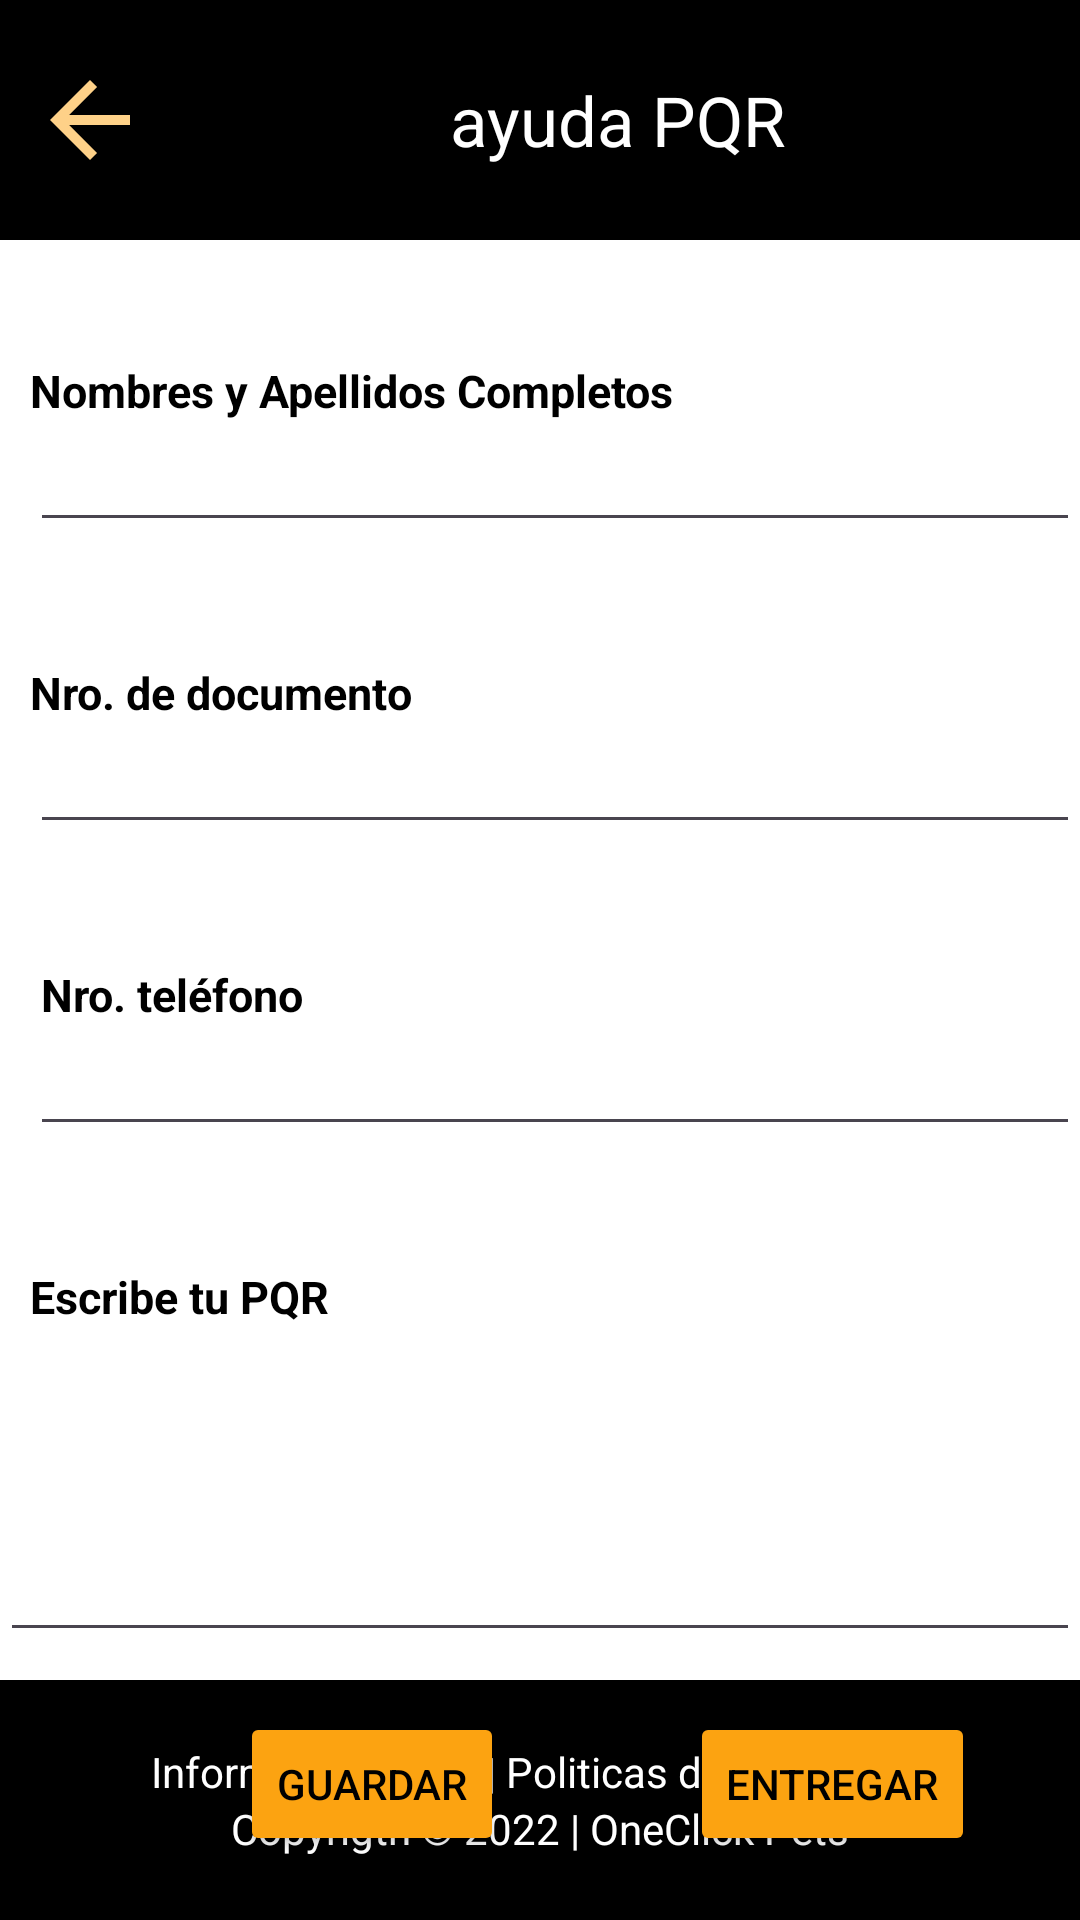

Screen size 1080×1920. Icon name, then its box in pixels as [x1,y1,x2,y2]:
atras: [50,80,130,160]
